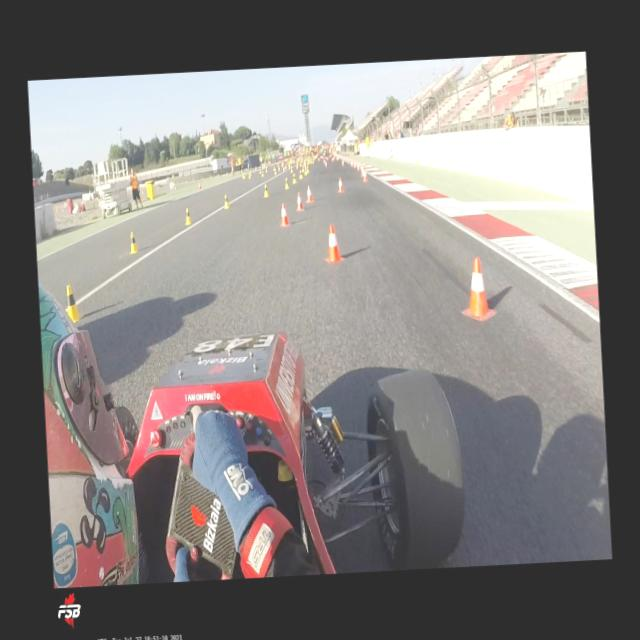orange_cone: (461, 257, 496, 321), (324, 225, 345, 262), (278, 202, 290, 228), (296, 192, 304, 212), (306, 184, 314, 203), (337, 176, 344, 192), (362, 170, 368, 182), (360, 165, 364, 178), (356, 162, 359, 172), (199, 182, 202, 189), (351, 160, 354, 167), (354, 161, 356, 169), (342, 159, 344, 166)
yellow_cone: (66, 284, 83, 324), (128, 230, 138, 253), (184, 207, 192, 226), (262, 184, 270, 198), (223, 193, 229, 210), (284, 177, 290, 190), (292, 173, 296, 184), (299, 170, 303, 180), (306, 166, 310, 173), (304, 167, 307, 176), (274, 168, 277, 175), (262, 170, 264, 177), (290, 166, 292, 172), (248, 173, 250, 179)
